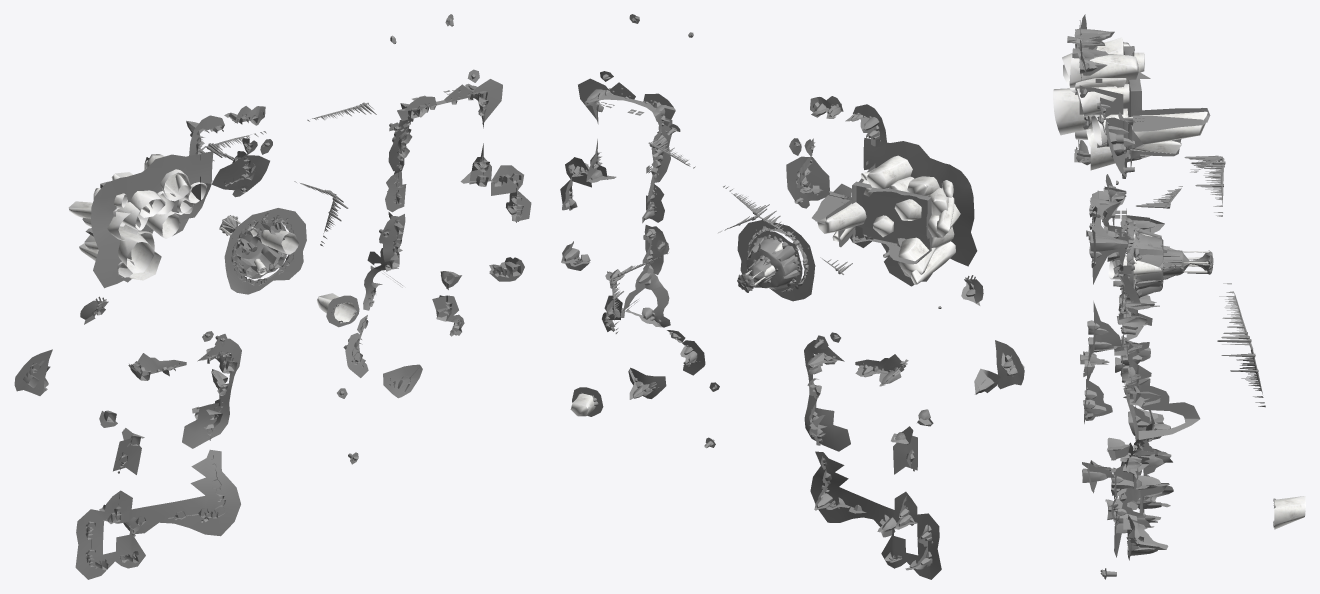
Rendered from IcePillar001.obj.
3 renders of one model, left to right at view 1: azimuth 30°, elevation 25°; view 2: azimuth 150°, elevation 25°; view 3: azimuth 270°, elevation 25°, orthographic. The views are drawn at different scales.
Parts seen in each view (by area): view 1: polySurface2447__Frost00, pCone6_1__PillarIceBig01, shape0_2__Frost01, Ice10__CrystalIceOpaque00, Ice10_1__CrystalIceOpaque01; view 2: polySurface2447__Frost00, shape0_2__Frost01, pCone6_1__PillarIceBig01, Ice10_1__CrystalIceOpaque01, Ice10__CrystalIceOpaque00; view 3: pCone6_1__PillarIceBig01, shape0_2__Frost01, Ice10__CrystalIceOpaque00, polySurface2447__Frost00, Ice10_1__CrystalIceOpaque01.
Part boxes in pixels (left/top/right/bottom): polySurface2447__Frost00: left=14, top=14, right=531, bottom=579; pCone6_1__PillarIceBig01: left=23, top=17, right=523, bottom=570; shape0_2__Frost01: left=39, top=83, right=518, bottom=553; Ice10__CrystalIceOpaque00: left=68, top=154, right=356, bottom=322; Ice10_1__CrystalIceOpaque01: left=79, top=160, right=206, bottom=277; polySurface2447__Frost00: left=560, top=14, right=1024, bottom=579; shape0_2__Frost01: left=561, top=82, right=1010, bottom=570; pCone6_1__PillarIceBig01: left=564, top=16, right=1024, bottom=567; Ice10_1__CrystalIceOpaque01: left=818, top=168, right=960, bottom=284; Ice10__CrystalIceOpaque00: left=570, top=155, right=958, bottom=416; pCone6_1__PillarIceBig01: left=1067, top=28, right=1275, bottom=577; shape0_2__Frost01: left=1077, top=20, right=1210, bottom=576; Ice10__CrystalIceOpaque00: left=1062, top=37, right=1305, bottom=529; polySurface2447__Frost00: left=1078, top=14, right=1156, bottom=579; Ice10_1__CrystalIceOpaque01: left=1053, top=41, right=1205, bottom=170.
Size of the model in its own units: 7392 by 7004 by 2694.
Materials: 6 (2 with a texture image).
